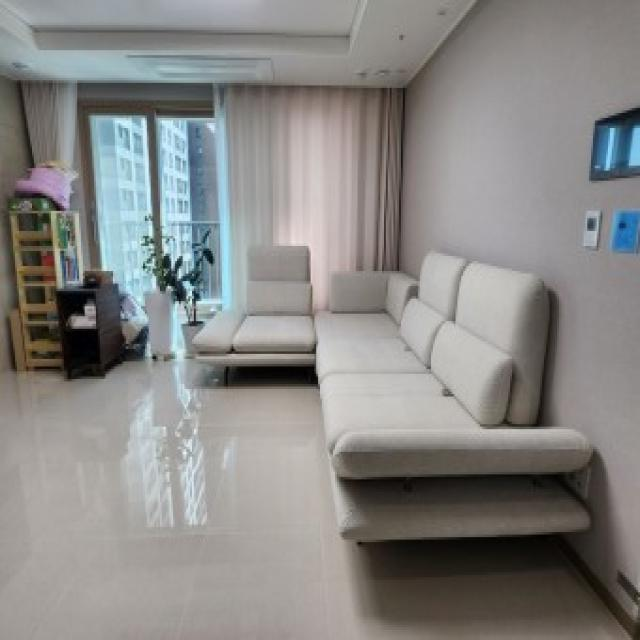Sofa: (210, 245, 592, 563)
window: (69, 99, 392, 270)
